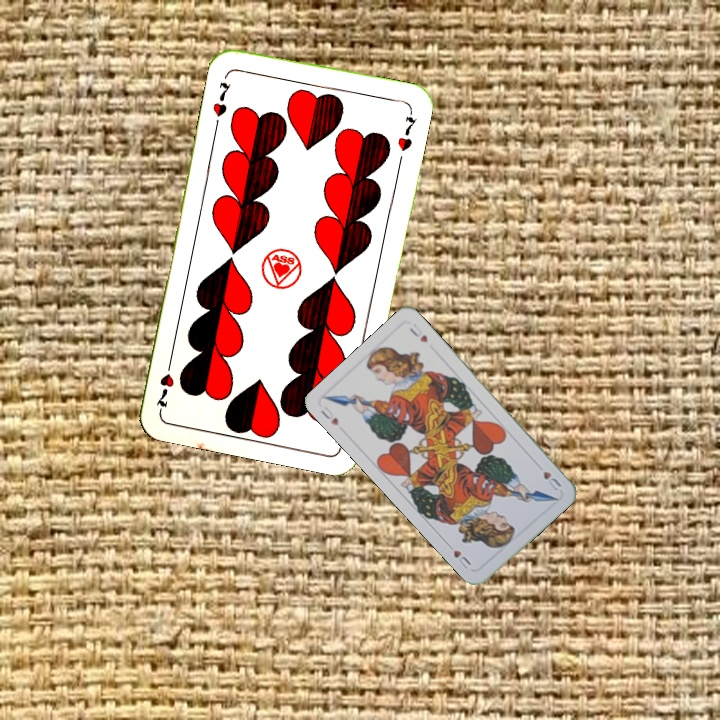H7: (208, 78, 233, 120)
HU: (539, 467, 564, 493), (316, 402, 341, 428)
